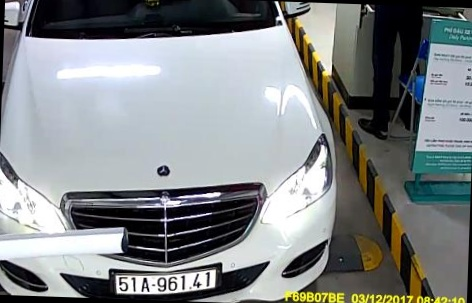plate: (116, 265, 215, 293)
